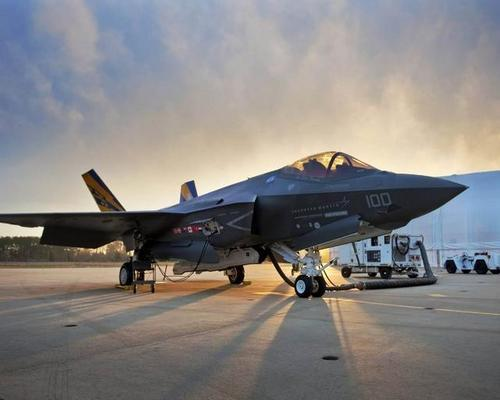airplane: (6, 149, 471, 297)
